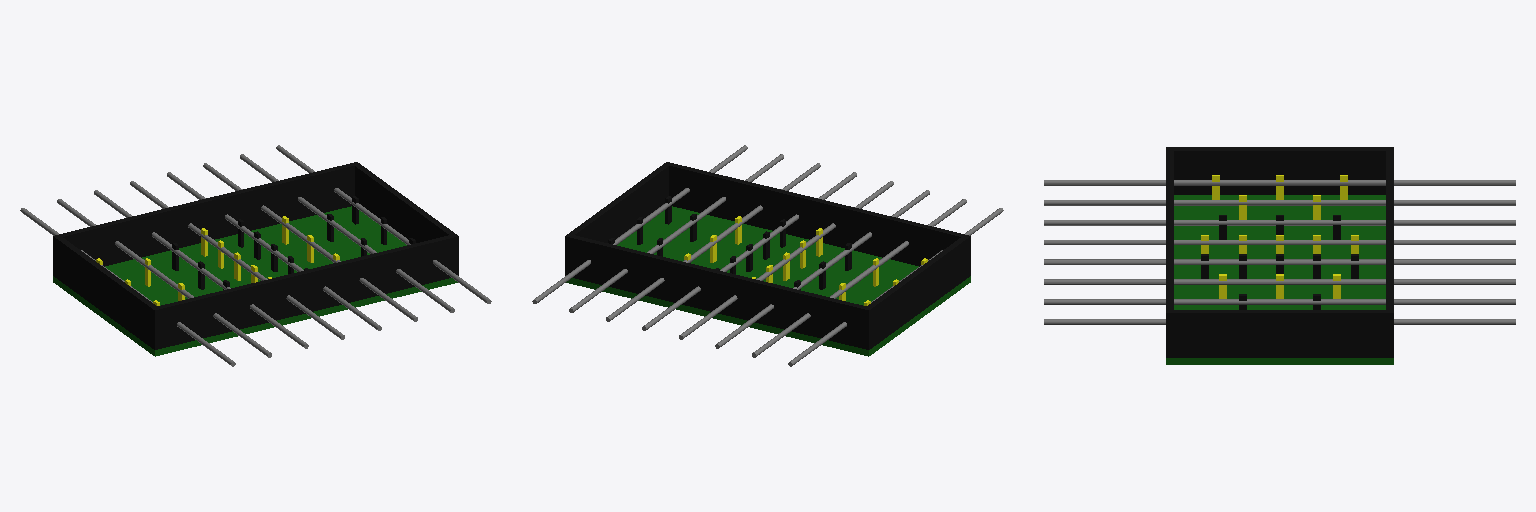
--- Facts derived from the render (not from the file) ---
The picture shows the robot from 3 angles, left to right: view 1: azimuth 30°, elevation 25°; view 2: azimuth 150°, elevation 25°; view 3: azimuth 270°, elevation 25°; orthographic projection.
Robot: foosball_table — 36 links, 35 joints (8 continuous, 8 prismatic, 19 fixed); root link table; default pose: all joints at 0.
Visible links, largest first — view 1: table, floor, rod2, rod7, rod8, rod6, rod3, rod5, rod4, rod1; view 2: table, floor, rod2, rod7, rod8, rod6, rod3, rod5, rod4, rod1; view 3: table, floor, rod7, rod1, rod2, rod3, rod6, rod5, rod4, rod8.
Boxes of the visible links, x1=… form: table: x1=53, y1=162, x2=458, y2=349; floor: x1=53, y1=206, x2=457, y2=356; rod2: x1=57, y1=199, x2=271, y2=357; rod7: x1=240, y1=154, x2=454, y2=312; rod8: x1=276, y1=145, x2=491, y2=303; rod6: x1=203, y1=163, x2=417, y2=321; rod3: x1=94, y1=190, x2=308, y2=348; rod5: x1=167, y1=172, x2=381, y2=330; rod4: x1=130, y1=181, x2=344, y2=339; rod1: x1=20, y1=208, x2=235, y2=366; table: x1=565, y1=162, x2=970, y2=349; floor: x1=566, y1=206, x2=970, y2=356; rod2: x1=752, y1=199, x2=966, y2=357; rod7: x1=569, y1=154, x2=783, y2=312; rod8: x1=532, y1=145, x2=747, y2=303; rod6: x1=606, y1=163, x2=820, y2=321; rod3: x1=715, y1=190, x2=929, y2=348; rod5: x1=642, y1=172, x2=856, y2=330; rod4: x1=679, y1=181, x2=893, y2=339; rod1: x1=788, y1=208, x2=1003, y2=366; table: x1=1166, y1=147, x2=1393, y2=357; floor: x1=1166, y1=195, x2=1393, y2=364; rod7: x1=1044, y1=299, x2=1515, y2=304; rod1: x1=1044, y1=180, x2=1515, y2=185; rod2: x1=1044, y1=200, x2=1515, y2=205; rod3: x1=1044, y1=220, x2=1515, y2=225; rod6: x1=1044, y1=279, x2=1515, y2=284; rod5: x1=1044, y1=259, x2=1515, y2=264; rod4: x1=1044, y1=240, x2=1515, y2=244; rod8: x1=1044, y1=319, x2=1515, y2=324.
Size in the robot's own frame: 1.27 by 1.52 by 0.1841 metres.
Geometry: primitives only (box / cylinder / sphere), no mesh files.

robot.urdf — foosball_table:
<robot name="foosball_table">
  <material name="black">
    <color rgba="0.1 0.1 0.1 1.0"/>
  </material>
  <material name="green">
    <color rgba="0.1 0.4 0.1 1.0"/>
  </material>
  <material name="silver">
    <color rgba="0.5 0.5 0.5 1.0"/>
  </material>
  <material name="yellow">
    <color rgba="0.9 0.9 0.1 1.0"/>
  </material>
  <link name="table">
    <inertial>
      <mass value="1"/>
      <inertia ixx="1" ixy="0" ixz="0" iyy="1" iyz="0" izz="1"/>
    </inertial>
    <visual>
      <origin xyz="0.000000 -0.355600 0.000000" rpy="0 0 0"/>
      <geometry>
        <box size="1.219200 0.025400 0.158750"/>
      </geometry>
      <material name="black"/>
    </visual>
    <collision>
      <origin xyz="0.000000 -0.355600 0.000000" rpy="0 0 0"/>
      <geometry>
        <box size="1.219200 0.025400 0.158750"/>
      </geometry>
    </collision>
    <visual>
      <origin xyz="0.000000 0.355600 0.000000" rpy="0 0 0"/>
      <geometry>
        <box size="1.219200 0.025400 0.158750"/>
      </geometry>
      <material name="black"/>
    </visual>
    <collision>
      <origin xyz="0.000000 0.355600 0.000000" rpy="0 0 0"/>
      <geometry>
        <box size="1.219200 0.025400 0.158750"/>
      </geometry>
    </collision>
    <visual>
      <origin xyz="-0.622300 0.000000 0.000000" rpy="0 0 0"/>
      <geometry>
        <box size="0.025400 0.736600 0.158750"/>
      </geometry>
      <material name="black"/>
    </visual>
    <collision>
      <origin xyz="-0.622300 0.000000 0.000000" rpy="0 0 0"/>
      <geometry>
        <box size="0.025400 0.736600 0.158750"/>
      </geometry>
    </collision>
    <visual>
      <origin xyz="0.622300 0.000000 0.000000" rpy="0 0 0"/>
      <geometry>
        <box size="0.025400 0.736600 0.158750"/>
      </geometry>
      <material name="black"/>
    </visual>
    <collision>
      <origin xyz="0.622300 0.000000 0.000000" rpy="0 0 0"/>
      <geometry>
        <box size="0.025400 0.736600 0.158750"/>
      </geometry>
    </collision>
  </link>
  <link name="floor">
    <inertial>
      <mass value="1"/>
      <inertia ixx="1" ixy="0" ixz="0" iyy="1" iyz="0" izz="1"/>
    </inertial>
    <visual>
      <origin xyz="0.000000 0.000000 -0.092075" rpy="0 0 0"/>
      <geometry>
        <box size="1.270000 0.736600 0.025400"/>
      </geometry>
      <material name="green"/>
    </visual>
    <collision>
      <origin xyz="0.000000 0.000000 -0.092075" rpy="0 0 0"/>
      <geometry>
        <box size="1.270000 0.736600 0.025400"/>
      </geometry>
    </collision>
  </link>
  <joint name="floor_joint" type="fixed">
    <origin xyz="0.000000 0.000000 0.000000" rpy="0 0 0"/>
    <parent link="table"/>
    <child link="floor"/>
  </joint>
  <link name="rod1">
    <inertial>
      <mass value="1"/>
      <inertia ixx="1" ixy="0" ixz="0" iyy="1" iyz="0" izz="1"/>
    </inertial>
    <visual>
      <origin xyz="-0.533400 0.000000 0.000000" rpy="1.570796 0 0"/>
      <geometry>
        <cylinder radius="0.009525" length="1.524000"/>
      </geometry>
      <material name="silver"/>
    </visual>
  </link>
  <joint name="rod1_joint" type="prismatic">
    <axis xyz="0 1 0"/>
    <parent link="table"/>
    <child link="rod1"/>
    <limit effort="100" velocity="100" lower="-0.12382499999999999" upper="0.12382499999999999"/>
  </joint>
  <link name="rod1_man0">
    <inertial>
      <mass value="1"/>
      <inertia ixx="1" ixy="0" ixz="0" iyy="1" iyz="0" izz="1"/>
    </inertial>
    <visual>
      <origin xyz="0.000000 0.000000 -0.025400" rpy="0 0 0"/>
      <geometry>
        <box size="0.012700 0.025400 0.101600"/>
      </geometry>
      <material name="yellow"/>
    </visual>
    <collision>
      <origin xyz="0.000000 0.000000 -0.025400" rpy="0 0 0"/>
      <geometry>
        <box size="0.012700 0.025400 0.101600"/>
      </geometry>
    </collision>
  </link>
  <joint name="rod1_man0_joint" type="continuous">
    <origin xyz="-0.533400 -0.206375 0.000000" rpy="0 0 0"/>
    <axis xyz="0 1 0"/>
    <parent link="rod1"/>
    <child link="rod1_man0"/>
    <limit effort="100" velocity="100"/>
  </joint>
  <link name="rod1_man1">
    <inertial>
      <mass value="1"/>
      <inertia ixx="1" ixy="0" ixz="0" iyy="1" iyz="0" izz="1"/>
    </inertial>
    <visual>
      <origin xyz="0.000000 0.000000 -0.025400" rpy="0 0 0"/>
      <geometry>
        <box size="0.012700 0.025400 0.101600"/>
      </geometry>
      <material name="yellow"/>
    </visual>
    <collision>
      <origin xyz="0.000000 0.000000 -0.025400" rpy="0 0 0"/>
      <geometry>
        <box size="0.012700 0.025400 0.101600"/>
      </geometry>
    </collision>
  </link>
  <joint name="rod1_man1_joint" type="fixed">
    <origin xyz="0.000000 0.206375 0.000000" rpy="0 0 0"/>
    <parent link="rod1_man0"/>
    <child link="rod1_man1"/>
  </joint>
  <link name="rod1_man2">
    <inertial>
      <mass value="1"/>
      <inertia ixx="1" ixy="0" ixz="0" iyy="1" iyz="0" izz="1"/>
    </inertial>
    <visual>
      <origin xyz="0.000000 0.000000 -0.025400" rpy="0 0 0"/>
      <geometry>
        <box size="0.012700 0.025400 0.101600"/>
      </geometry>
      <material name="yellow"/>
    </visual>
    <collision>
      <origin xyz="0.000000 0.000000 -0.025400" rpy="0 0 0"/>
      <geometry>
        <box size="0.012700 0.025400 0.101600"/>
      </geometry>
    </collision>
  </link>
  <joint name="rod1_man2_joint" type="fixed">
    <origin xyz="0.000000 0.412750 0.000000" rpy="0 0 0"/>
    <parent link="rod1_man0"/>
    <child link="rod1_man2"/>
  </joint>
  <link name="rod2">
    <inertial>
      <mass value="1"/>
      <inertia ixx="1" ixy="0" ixz="0" iyy="1" iyz="0" izz="1"/>
    </inertial>
    <visual>
      <origin xyz="-0.381000 0.000000 0.000000" rpy="1.570796 0 0"/>
      <geometry>
        <cylinder radius="0.009525" length="1.524000"/>
      </geometry>
      <material name="silver"/>
    </visual>
  </link>
  <joint name="rod2_joint" type="prismatic">
    <axis xyz="0 1 0"/>
    <parent link="table"/>
    <child link="rod2"/>
    <limit effort="100" velocity="100" lower="-0.20955" upper="0.20955"/>
  </joint>
  <link name="rod2_man0">
    <inertial>
      <mass value="1"/>
      <inertia ixx="1" ixy="0" ixz="0" iyy="1" iyz="0" izz="1"/>
    </inertial>
    <visual>
      <origin xyz="0.000000 0.000000 -0.025400" rpy="0 0 0"/>
      <geometry>
        <box size="0.012700 0.025400 0.101600"/>
      </geometry>
      <material name="yellow"/>
    </visual>
    <collision>
      <origin xyz="0.000000 0.000000 -0.025400" rpy="0 0 0"/>
      <geometry>
        <box size="0.012700 0.025400 0.101600"/>
      </geometry>
    </collision>
  </link>
  <joint name="rod2_man0_joint" type="continuous">
    <origin xyz="-0.381000 -0.120650 0.000000" rpy="0 0 0"/>
    <axis xyz="0 1 0"/>
    <parent link="rod2"/>
    <child link="rod2_man0"/>
    <limit effort="100" velocity="100"/>
  </joint>
  <link name="rod2_man1">
    <inertial>
      <mass value="1"/>
      <inertia ixx="1" ixy="0" ixz="0" iyy="1" iyz="0" izz="1"/>
    </inertial>
    <visual>
      <origin xyz="0.000000 0.000000 -0.025400" rpy="0 0 0"/>
      <geometry>
        <box size="0.012700 0.025400 0.101600"/>
      </geometry>
      <material name="yellow"/>
    </visual>
    <collision>
      <origin xyz="0.000000 0.000000 -0.025400" rpy="0 0 0"/>
      <geometry>
        <box size="0.012700 0.025400 0.101600"/>
      </geometry>
    </collision>
  </link>
  <joint name="rod2_man1_joint" type="fixed">
    <origin xyz="0.000000 0.241300 0.000000" rpy="0 0 0"/>
    <parent link="rod2_man0"/>
    <child link="rod2_man1"/>
  </joint>
  <link name="rod3">
    <inertial>
      <mass value="1"/>
      <inertia ixx="1" ixy="0" ixz="0" iyy="1" iyz="0" izz="1"/>
    </inertial>
    <visual>
      <origin xyz="-0.228600 0.000000 0.000000" rpy="1.570796 0 0"/>
      <geometry>
        <cylinder radius="0.009525" length="1.524000"/>
      </geometry>
      <material name="silver"/>
    </visual>
  </link>
  <joint name="rod3_joint" type="prismatic">
    <axis xyz="0 1 0"/>
    <parent link="table"/>
    <child link="rod3"/>
    <limit effort="100" velocity="100" lower="-0.14605" upper="0.14605"/>
  </joint>
  <link name="rod3_man0">
    <inertial>
      <mass value="1"/>
      <inertia ixx="1" ixy="0" ixz="0" iyy="1" iyz="0" izz="1"/>
    </inertial>
    <visual>
      <origin xyz="0.000000 0.000000 -0.025400" rpy="0 0 0"/>
      <geometry>
        <box size="0.012700 0.025400 0.101600"/>
      </geometry>
      <material name="black"/>
    </visual>
    <collision>
      <origin xyz="0.000000 0.000000 -0.025400" rpy="0 0 0"/>
      <geometry>
        <box size="0.012700 0.025400 0.101600"/>
      </geometry>
    </collision>
  </link>
  <joint name="rod3_man0_joint" type="continuous">
    <origin xyz="-0.228600 -0.184150 0.000000" rpy="0 0 0"/>
    <axis xyz="0 1 0"/>
    <parent link="rod3"/>
    <child link="rod3_man0"/>
    <limit effort="100" velocity="100"/>
  </joint>
  <link name="rod3_man1">
    <inertial>
      <mass value="1"/>
      <inertia ixx="1" ixy="0" ixz="0" iyy="1" iyz="0" izz="1"/>
    </inertial>
    <visual>
      <origin xyz="0.000000 0.000000 -0.025400" rpy="0 0 0"/>
      <geometry>
        <box size="0.012700 0.025400 0.101600"/>
      </geometry>
      <material name="black"/>
    </visual>
    <collision>
      <origin xyz="0.000000 0.000000 -0.025400" rpy="0 0 0"/>
      <geometry>
        <box size="0.012700 0.025400 0.101600"/>
      </geometry>
    </collision>
  </link>
  <joint name="rod3_man1_joint" type="fixed">
    <origin xyz="0.000000 0.184150 0.000000" rpy="0 0 0"/>
    <parent link="rod3_man0"/>
    <child link="rod3_man1"/>
  </joint>
  <link name="rod3_man2">
    <inertial>
      <mass value="1"/>
      <inertia ixx="1" ixy="0" ixz="0" iyy="1" iyz="0" izz="1"/>
    </inertial>
    <visual>
      <origin xyz="0.000000 0.000000 -0.025400" rpy="0 0 0"/>
      <geometry>
        <box size="0.012700 0.025400 0.101600"/>
      </geometry>
      <material name="black"/>
    </visual>
    <collision>
      <origin xyz="0.000000 0.000000 -0.025400" rpy="0 0 0"/>
      <geometry>
        <box size="0.012700 0.025400 0.101600"/>
      </geometry>
    </collision>
  </link>
  <joint name="rod3_man2_joint" type="fixed">
    <origin xyz="0.000000 0.368300 0.000000" rpy="0 0 0"/>
    <parent link="rod3_man0"/>
    <child link="rod3_man2"/>
  </joint>
  <link name="rod4">
    <inertial>
      <mass value="1"/>
      <inertia ixx="1" ixy="0" ixz="0" iyy="1" iyz="0" izz="1"/>
    </inertial>
    <visual>
      <origin xyz="-0.076200 0.000000 0.000000" rpy="1.570796 0 0"/>
      <geometry>
        <cylinder radius="0.009525" length="1.524000"/>
      </geometry>
      <material name="silver"/>
    </visual>
  </link>
  <joint name="rod4_joint" type="prismatic">
    <axis xyz="0 1 0"/>
    <parent link="table"/>
    <child link="rod4"/>
    <limit effort="100" velocity="100" lower="-0.08889999999999998" upper="0.08889999999999998"/>
  </joint>
  <link name="rod4_man0">
    <inertial>
      <mass value="1"/>
      <inertia ixx="1" ixy="0" ixz="0" iyy="1" iyz="0" izz="1"/>
    </inertial>
    <visual>
      <origin xyz="0.000000 0.000000 -0.025400" rpy="0 0 0"/>
      <geometry>
        <box size="0.012700 0.025400 0.101600"/>
      </geometry>
      <material name="yellow"/>
    </visual>
    <collision>
      <origin xyz="0.000000 0.000000 -0.025400" rpy="0 0 0"/>
      <geometry>
        <box size="0.012700 0.025400 0.101600"/>
      </geometry>
    </collision>
  </link>
  <joint name="rod4_man0_joint" type="continuous">
    <origin xyz="-0.076200 -0.241300 0.000000" rpy="0 0 0"/>
    <axis xyz="0 1 0"/>
    <parent link="rod4"/>
    <child link="rod4_man0"/>
    <limit effort="100" velocity="100"/>
  </joint>
  <link name="rod4_man1">
    <inertial>
      <mass value="1"/>
      <inertia ixx="1" ixy="0" ixz="0" iyy="1" iyz="0" izz="1"/>
    </inertial>
    <visual>
      <origin xyz="0.000000 0.000000 -0.025400" rpy="0 0 0"/>
      <geometry>
        <box size="0.012700 0.025400 0.101600"/>
      </geometry>
      <material name="yellow"/>
    </visual>
    <collision>
      <origin xyz="0.000000 0.000000 -0.025400" rpy="0 0 0"/>
      <geometry>
        <box size="0.012700 0.025400 0.101600"/>
      </geometry>
    </collision>
  </link>
  <joint name="rod4_man1_joint" type="fixed">
    <origin xyz="0.000000 0.120650 0.000000" rpy="0 0 0"/>
    <parent link="rod4_man0"/>
    <child link="rod4_man1"/>
  </joint>
  <link name="rod4_man2">
    <inertial>
      <mass value="1"/>
      <inertia ixx="1" ixy="0" ixz="0" iyy="1" iyz="0" izz="1"/>
    </inertial>
    <visual>
      <origin xyz="0.000000 0.000000 -0.025400" rpy="0 0 0"/>
      <geometry>
        <box size="0.012700 0.025400 0.101600"/>
      </geometry>
      <material name="yellow"/>
    </visual>
    <collision>
      <origin xyz="0.000000 0.000000 -0.025400" rpy="0 0 0"/>
      <geometry>
        <box size="0.012700 0.025400 0.101600"/>
      </geometry>
    </collision>
  </link>
  <joint name="rod4_man2_joint" type="fixed">
    <origin xyz="0.000000 0.241300 0.000000" rpy="0 0 0"/>
    <parent link="rod4_man0"/>
    <child link="rod4_man2"/>
  </joint>
  <link name="rod4_man3">
    <inertial>
      <mass value="1"/>
      <inertia ixx="1" ixy="0" ixz="0" iyy="1" iyz="0" izz="1"/>
    </inertial>
    <visual>
      <origin xyz="0.000000 0.000000 -0.025400" rpy="0 0 0"/>
      <geometry>
        <box size="0.012700 0.025400 0.101600"/>
      </geometry>
      <material name="yellow"/>
    </visual>
    <collision>
      <origin xyz="0.000000 0.000000 -0.025400" rpy="0 0 0"/>
      <geometry>
        <box size="0.012700 0.025400 0.101600"/>
      </geometry>
    </collision>
  </link>
  <joint name="rod4_man3_joint" type="fixed">
    <origin xyz="0.000000 0.361950 0.000000" rpy="0 0 0"/>
    <parent link="rod4_man0"/>
    <child link="rod4_man3"/>
  </joint>
  <link name="rod4_man4">
    <inertial>
      <mass value="1"/>
      <inertia ixx="1" ixy="0" ixz="0" iyy="1" iyz="0" izz="1"/>
    </inertial>
    <visual>
      <origin xyz="0.000000 0.000000 -0.025400" rpy="0 0 0"/>
      <geometry>
        <box size="0.012700 0.025400 0.101600"/>
      </geometry>
      <material name="yellow"/>
    </visual>
    <collision>
      <origin xyz="0.000000 0.000000 -0.025400" rpy="0 0 0"/>
      <geometry>
        <box size="0.012700 0.025400 0.101600"/>
      </geometry>
    </collision>
  </link>
  <joint name="rod4_man4_joint" type="fixed">
    <origin xyz="0.000000 0.482600 0.000000" rpy="0 0 0"/>
    <parent link="rod4_man0"/>
    <child link="rod4_man4"/>
  </joint>
  <link name="rod5">
    <inertial>
      <mass value="1"/>
      <inertia ixx="1" ixy="0" ixz="0" iyy="1" iyz="0" izz="1"/>
    </inertial>
    <visual>
      <origin xyz="0.076200 0.000000 0.000000" rpy="1.570796 0 0"/>
      <geometry>
        <cylinder radius="0.009525" length="1.524000"/>
      </geometry>
      <material name="silver"/>
    </visual>
  </link>
  <joint name="rod5_joint" type="prismatic">
    <axis xyz="0 1 0"/>
    <parent link="table"/>
    <child link="rod5"/>
    <limit effort="100" velocity="100" lower="-0.08889999999999998" upper="0.08889999999999998"/>
  </joint>
  <link name="rod5_man0">
    <inertial>
      <mass value="1"/>
      <inertia ixx="1" ixy="0" ixz="0" iyy="1" iyz="0" izz="1"/>
    </inertial>
    <visual>
      <origin xyz="0.000000 0.000000 -0.025400" rpy="0 0 0"/>
      <geometry>
        <box size="0.012700 0.025400 0.101600"/>
      </geometry>
      <material name="black"/>
    </visual>
    <collision>
      <origin xyz="0.000000 0.000000 -0.025400" rpy="0 0 0"/>
      <geometry>
        <box size="0.012700 0.025400 0.101600"/>
      </geometry>
    </collision>
  </link>
  <joint name="rod5_man0_joint" type="continuous">
    <origin xyz="0.076200 -0.241300 0.000000" rpy="0 0 0"/>
    <axis xyz="0 1 0"/>
    <parent link="rod5"/>
    <child link="rod5_man0"/>
    <limit effort="100" velocity="100"/>
  </joint>
  <link name="rod5_man1">
    <inertial>
      <mass value="1"/>
      <inertia ixx="1" ixy="0" ixz="0" iyy="1" iyz="0" izz="1"/>
    </inertial>
    <visual>
      <origin xyz="0.000000 0.000000 -0.025400" rpy="0 0 0"/>
      <geometry>
        <box size="0.012700 0.025400 0.101600"/>
      </geometry>
      <material name="black"/>
    </visual>
    <collision>
      <origin xyz="0.000000 0.000000 -0.025400" rpy="0 0 0"/>
      <geometry>
        <box size="0.012700 0.025400 0.101600"/>
      </geometry>
    </collision>
  </link>
  <joint name="rod5_man1_joint" type="fixed">
    <origin xyz="0.000000 0.120650 0.000000" rpy="0 0 0"/>
    <parent link="rod5_man0"/>
    <child link="rod5_man1"/>
  </joint>
  <link name="rod5_man2">
    <inertial>
      <mass value="1"/>
      <inertia ixx="1" ixy="0" ixz="0" iyy="1" iyz="0" izz="1"/>
    </inertial>
    <visual>
      <origin xyz="0.000000 0.000000 -0.025400" rpy="0 0 0"/>
      <geometry>
        <box size="0.012700 0.025400 0.101600"/>
      </geometry>
      <material name="black"/>
    </visual>
    <collision>
      <origin xyz="0.000000 0.000000 -0.025400" rpy="0 0 0"/>
      <geometry>
        <box size="0.012700 0.025400 0.101600"/>
      </geometry>
    </collision>
  </link>
  <joint name="rod5_man2_joint" type="fixed">
    <origin xyz="0.000000 0.241300 0.000000" rpy="0 0 0"/>
    <parent link="rod5_man0"/>
    <child link="rod5_man2"/>
  </joint>
  <link name="rod5_man3">
    <inertial>
      <mass value="1"/>
      <inertia ixx="1" ixy="0" ixz="0" iyy="1" iyz="0" izz="1"/>
    </inertial>
    <visual>
      <origin xyz="0.000000 0.000000 -0.025400" rpy="0 0 0"/>
      <geometry>
        <box size="0.012700 0.025400 0.101600"/>
      </geometry>
      <material name="black"/>
    </visual>
    <collision>
      <origin xyz="0.000000 0.000000 -0.025400" rpy="0 0 0"/>
      <geometry>
        <box size="0.012700 0.025400 0.101600"/>
      </geometry>
    </collision>
  </link>
  <joint name="rod5_man3_joint" type="fixed">
    <origin xyz="0.000000 0.361950 0.000000" rpy="0 0 0"/>
    <parent link="rod5_man0"/>
    <child link="rod5_man3"/>
  </joint>
  <link name="rod5_man4">
    <inertial>
      <mass value="1"/>
      <inertia ixx="1" ixy="0" ixz="0" iyy="1" iyz="0" izz="1"/>
    </inertial>
    <visual>
      <origin xyz="0.000000 0.000000 -0.025400" rpy="0 0 0"/>
      <geometry>
        <box size="0.012700 0.025400 0.101600"/>
      </geometry>
      <material name="black"/>
    </visual>
    <collision>
      <origin xyz="0.000000 0.000000 -0.025400" rpy="0 0 0"/>
      <geometry>
        <box size="0.012700 0.025400 0.101600"/>
      </geometry>
    </collision>
  </link>
  <joint name="rod5_man4_joint" type="fixed">
    <origin xyz="0.000000 0.482600 0.000000" rpy="0 0 0"/>
    <parent link="rod5_man0"/>
    <child link="rod5_man4"/>
  </joint>
  <link name="rod6">
    <inertial>
      <mass value="1"/>
      <inertia ixx="1" ixy="0" ixz="0" iyy="1" iyz="0" izz="1"/>
    </inertial>
    <visual>
      <origin xyz="0.228600 0.000000 0.000000" rpy="1.570796 0 0"/>
      <geometry>
        <cylinder radius="0.009525" length="1.524000"/>
      </geometry>
      <material name="silver"/>
    </visual>
  </link>
  <joint name="rod6_joint" type="prismatic">
    <axis xyz="0 1 0"/>
    <parent link="table"/>
    <child link="rod6"/>
    <limit effort="100" velocity="100" lower="-0.14605" upper="0.14605"/>
  </joint>
  <link name="rod6_man0">
    <inertial>
      <mass value="1"/>
      <inertia ixx="1" ixy="0" ixz="0" iyy="1" iyz="0" izz="1"/>
    </inertial>
    <visual>
      <origin xyz="0.000000 0.000000 -0.025400" rpy="0 0 0"/>
      <geometry>
        <box size="0.012700 0.025400 0.101600"/>
      </geometry>
      <material name="yellow"/>
    </visual>
    <collision>
      <origin xyz="0.000000 0.000000 -0.025400" rpy="0 0 0"/>
      <geometry>
        <box size="0.012700 0.025400 0.101600"/>
      </geometry>
    </collision>
  </link>
  <joint name="rod6_man0_joint" type="continuous">
    <origin xyz="0.228600 -0.184150 0.000000" rpy="0 0 0"/>
    <axis xyz="0 1 0"/>
    <parent link="rod6"/>
    <child link="rod6_man0"/>
    <limit effort="100" velocity="100"/>
  </joint>
  <link name="rod6_man1">
    <inertial>
      <mass value="1"/>
      <inertia ixx="1" ixy="0" ixz="0" iyy="1" iyz="0" izz="1"/>
    </inertial>
    <visual>
      <origin xyz="0.000000 0.000000 -0.025400" rpy="0 0 0"/>
      <geometry>
        <box size="0.012700 0.025400 0.101600"/>
      </geometry>
      <material name="yellow"/>
    </visual>
    <collision>
      <origin xyz="0.000000 0.000000 -0.025400" rpy="0 0 0"/>
      <geometry>
        <box size="0.012700 0.025400 0.101600"/>
      </geometry>
    </collision>
  </link>
  <joint name="rod6_man1_joint" type="fixed">
    <origin xyz="0.000000 0.184150 0.000000" rpy="0 0 0"/>
    <parent link="rod6_man0"/>
    <child link="rod6_man1"/>
  </joint>
  <link name="rod6_man2">
    <inertial>
      <mass value="1"/>
      <inertia ixx="1" ixy="0" ixz="0" iyy="1" iyz="0" izz="1"/>
    </inertial>
    <visual>
      <origin xyz="0.000000 0.000000 -0.025400" rpy="0 0 0"/>
      <geometry>
        <box size="0.012700 0.025400 0.101600"/>
      </geometry>
      <material name="yellow"/>
    </visual>
    <collision>
      <origin xyz="0.000000 0.000000 -0.025400" rpy="0 0 0"/>
      <geometry>
        <box size="0.012700 0.025400 0.101600"/>
      </geometry>
    </collision>
  </link>
  <joint name="rod6_man2_joint" type="fixed">
    <origin xyz="0.000000 0.368300 0.000000" rpy="0 0 0"/>
    <parent link="rod6_man0"/>
    <child link="rod6_man2"/>
  </joint>
  <link name="rod7">
    <inertial>
      <mass value="1"/>
      <inertia ixx="1" ixy="0" ixz="0" iyy="1" iyz="0" izz="1"/>
    </inertial>
    <visual>
      <origin xyz="0.381000 0.000000 0.000000" rpy="1.570796 0 0"/>
      <geometry>
        <cylinder radius="0.009525" length="1.524000"/>
      </geometry>
      <material name="silver"/>
    </visual>
  </link>
  <joint name="rod7_joint" type="prismatic">
    <axis xyz="0 1 0"/>
    <parent link="table"/>
    <child link="rod7"/>
    <limit effort="100" velocity="100" lower="-0.20955" upper="0.20955"/>
  </joint>
  <link name="rod7_man0">
    <inertial>
      <mass value="1"/>
      <inertia ixx="1" ixy="0" ixz="0" iyy="1" iyz="0" izz="1"/>
    </inertial>
    <visual>
      <origin xyz="0.000000 0.000000 -0.025400" rpy="0 0 0"/>
      <geometry>
        <box size="0.012700 0.025400 0.101600"/>
      </geometry>
      <material name="black"/>
    </visual>
    <collision>
      <origin xyz="0.000000 0.000000 -0.025400" rpy="0 0 0"/>
      <geometry>
        <box size="0.012700 0.025400 0.101600"/>
      </geometry>
    </collision>
  </link>
  <joint name="rod7_man0_joint" type="continuous">
    <origin xyz="0.381000 -0.120650 0.000000" rpy="0 0 0"/>
    <axis xyz="0 1 0"/>
    <parent link="rod7"/>
    <child link="rod7_man0"/>
    <limit effort="100" velocity="100"/>
  </joint>
  <link name="rod7_man1">
    <inertial>
      <mass value="1"/>
      <inertia ixx="1" ixy="0" ixz="0" iyy="1" iyz="0" izz="1"/>
    </inertial>
    <visual>
      <origin xyz="0.000000 0.000000 -0.025400" rpy="0 0 0"/>
      <geometry>
        <box size="0.012700 0.025400 0.101600"/>
      </geometry>
      <material name="black"/>
    </visual>
    <collision>
      <origin xyz="0.000000 0.000000 -0.025400" rpy="0 0 0"/>
      <geometry>
        <box size="0.012700 0.025400 0.101600"/>
      </geometry>
    </collision>
  </link>
  <joint name="rod7_man1_joint" type="fixed">
    <origin xyz="0.000000 0.241300 0.000000" rpy="0 0 0"/>
    <parent link="rod7_man0"/>
    <child link="rod7_man1"/>
  </joint>
  <link name="rod8">
    <inertial>
      <mass value="1"/>
      <inertia ixx="1" ixy="0" ixz="0" iyy="1" iyz="0" izz="1"/>
    </inertial>
    <visual>
      <origin xyz="0.533400 0.000000 0.000000" rpy="1.570796 0 0"/>
      <geometry>
        <cylinder radius="0.009525" length="1.524000"/>
      </geometry>
      <material name="silver"/>
    </visual>
  </link>
  <joint name="rod8_joint" type="prismatic">
    <axis xyz="0 1 0"/>
    <parent link="table"/>
    <child link="rod8"/>
    <limit effort="100" velocity="100" lower="-0.12382499999999999" upper="0.12382499999999999"/>
  </joint>
  <link name="rod8_man0">
    <inertial>
      <mass value="1"/>
      <inertia ixx="1" ixy="0" ixz="0" iyy="1" iyz="0" izz="1"/>
    </inertial>
    <visual>
      <origin xyz="0.000000 0.000000 -0.025400" rpy="0 0 0"/>
      <geometry>
        <box size="0.012700 0.025400 0.101600"/>
      </geometry>
      <material name="black"/>
    </visual>
    <collision>
      <origin xyz="0.000000 0.000000 -0.025400" rpy="0 0 0"/>
      <geometry>
        <box size="0.012700 0.025400 0.101600"/>
      </geometry>
    </collision>
  </link>
  <joint name="rod8_man0_joint" type="continuous">
    <origin xyz="0.533400 -0.206375 0.000000" rpy="0 0 0"/>
    <axis xyz="0 1 0"/>
    <parent link="rod8"/>
    <child link="rod8_man0"/>
    <limit effort="100" velocity="100"/>
  </joint>
  <link name="rod8_man1">
    <inertial>
      <mass value="1"/>
      <inertia ixx="1" ixy="0" ixz="0" iyy="1" iyz="0" izz="1"/>
    </inertial>
    <visual>
      <origin xyz="0.000000 0.000000 -0.025400" rpy="0 0 0"/>
      <geometry>
        <box size="0.012700 0.025400 0.101600"/>
      </geometry>
      <material name="black"/>
    </visual>
    <collision>
      <origin xyz="0.000000 0.000000 -0.025400" rpy="0 0 0"/>
      <geometry>
        <box size="0.012700 0.025400 0.101600"/>
      </geometry>
    </collision>
  </link>
  <joint name="rod8_man1_joint" type="fixed">
    <origin xyz="0.000000 0.206375 0.000000" rpy="0 0 0"/>
    <parent link="rod8_man0"/>
    <child link="rod8_man1"/>
  </joint>
  <link name="rod8_man2">
    <inertial>
      <mass value="1"/>
      <inertia ixx="1" ixy="0" ixz="0" iyy="1" iyz="0" izz="1"/>
    </inertial>
    <visual>
      <origin xyz="0.000000 0.000000 -0.025400" rpy="0 0 0"/>
      <geometry>
        <box size="0.012700 0.025400 0.101600"/>
      </geometry>
      <material name="black"/>
    </visual>
    <collision>
      <origin xyz="0.000000 0.000000 -0.025400" rpy="0 0 0"/>
      <geometry>
        <box size="0.012700 0.025400 0.101600"/>
      </geometry>
    </collision>
  </link>
  <joint name="rod8_man2_joint" type="fixed">
    <origin xyz="0.000000 0.412750 0.000000" rpy="0 0 0"/>
    <parent link="rod8_man0"/>
    <child link="rod8_man2"/>
  </joint>
</robot>
